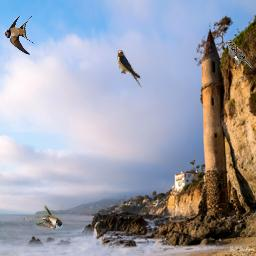Sparrow: (225, 40, 253, 70)
Swallow: (4, 15, 34, 55), (117, 50, 143, 90), (23, 205, 63, 229)
